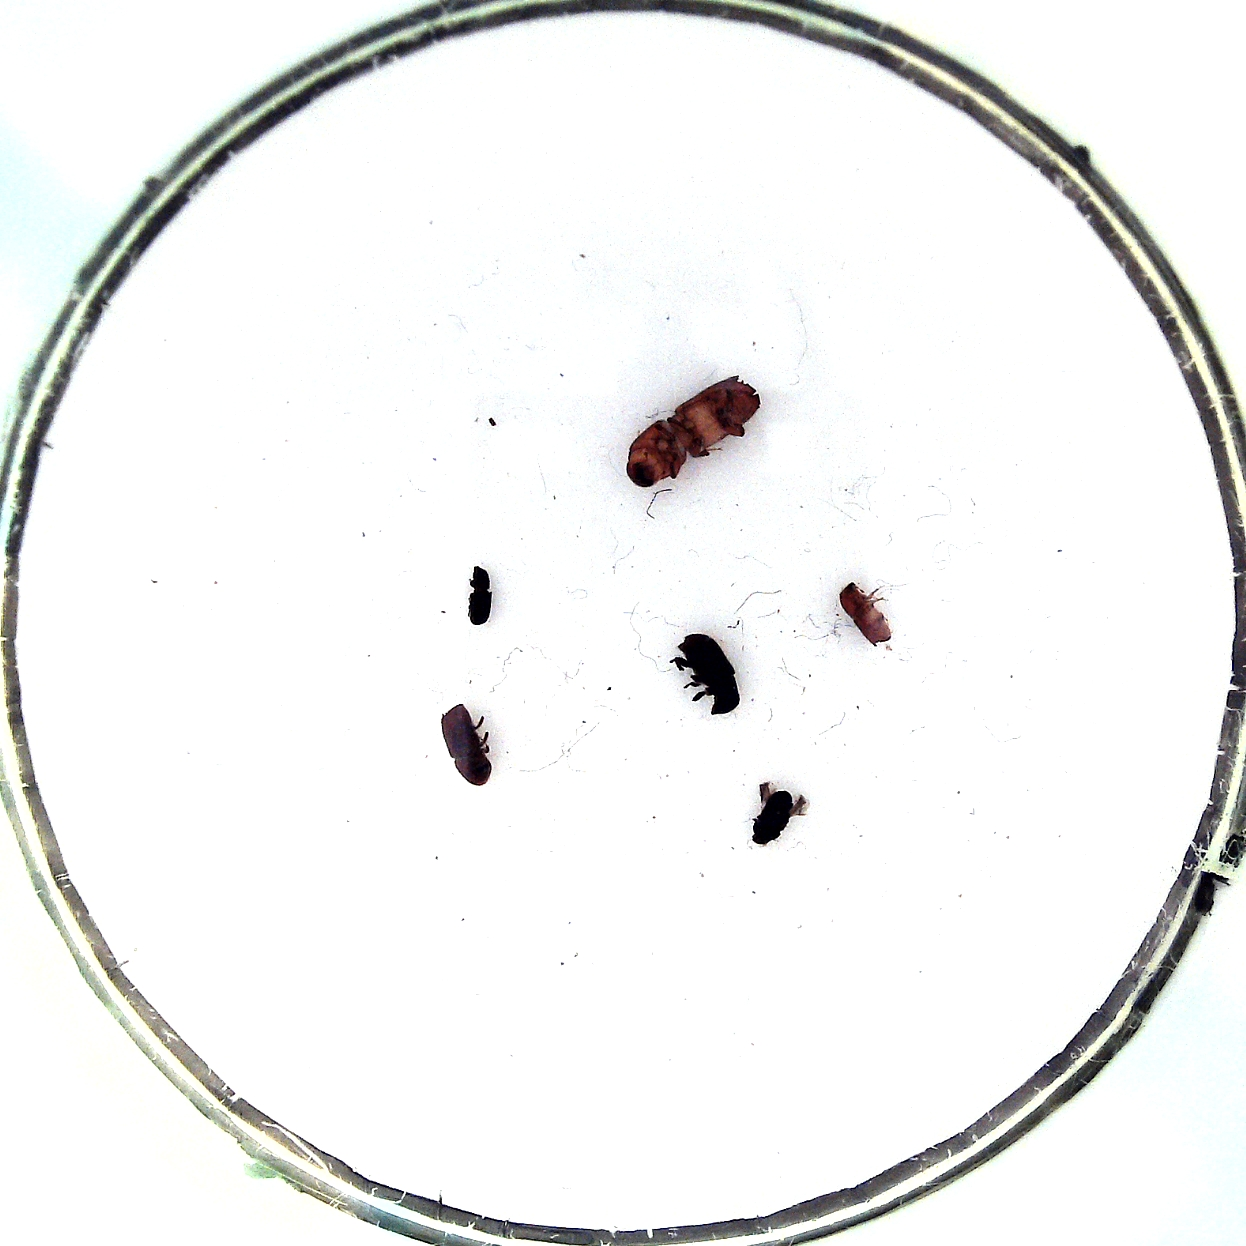Boerner: (626, 374, 761, 487)
acuminatus: (751, 791, 793, 844), (467, 566, 494, 625)
armandi: (677, 634, 741, 715)
coleoptera: (839, 581, 893, 647)
linnaeus: (440, 704, 492, 787)
